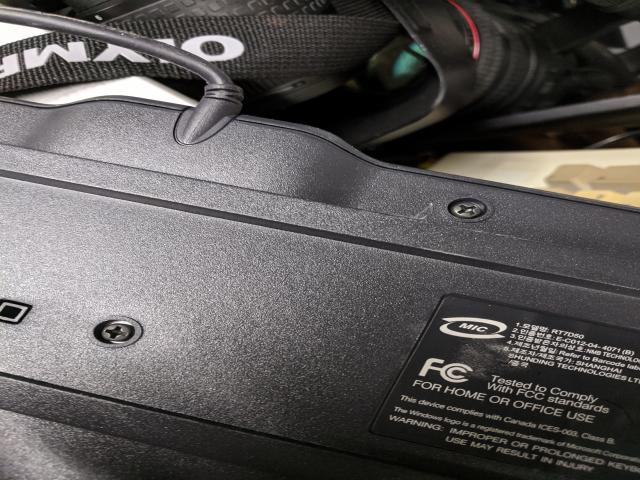CRS: (94, 322, 140, 344), (450, 203, 485, 218)
